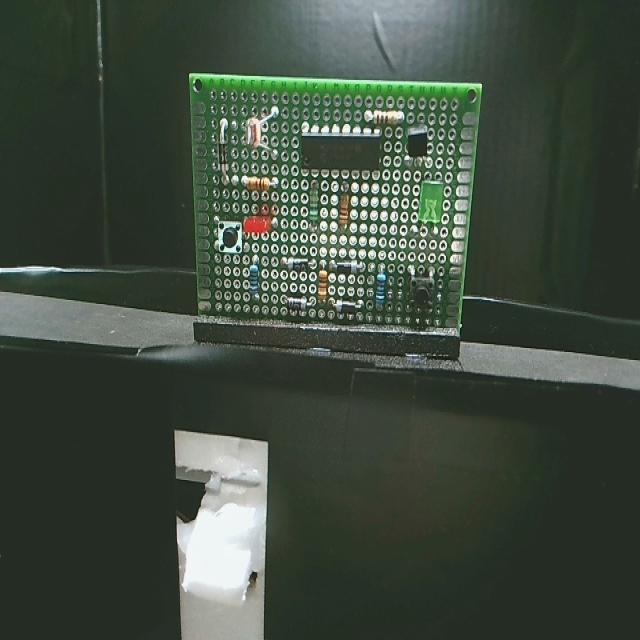IC: (299, 128, 386, 178)
cds: (246, 112, 269, 154)
diode: (332, 295, 360, 320), (281, 295, 314, 316), (216, 134, 234, 172), (286, 253, 312, 277), (334, 258, 361, 279)
led: (416, 175, 448, 227), (244, 209, 272, 242)
resistor: (369, 267, 388, 319), (244, 263, 266, 301), (371, 101, 399, 129), (305, 184, 322, 223), (334, 190, 350, 225), (244, 172, 270, 190), (317, 266, 329, 304)
switch: (404, 273, 441, 319), (216, 216, 244, 260)
transistor: (407, 126, 437, 168)
